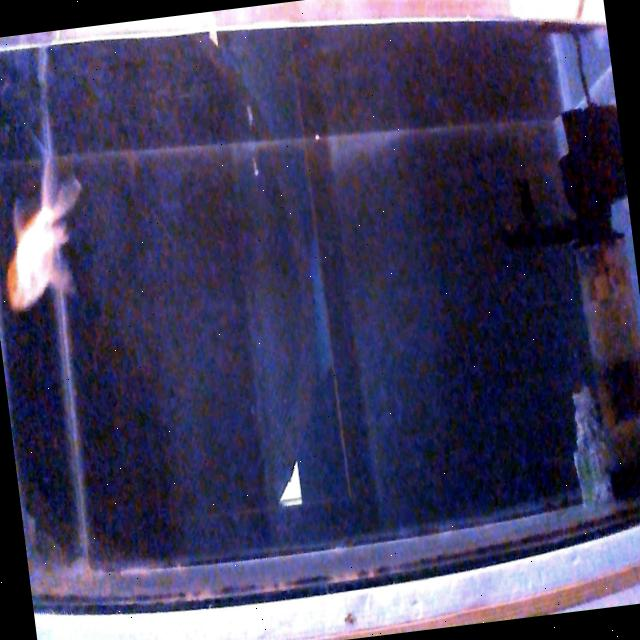fish: (0, 165, 95, 311)
